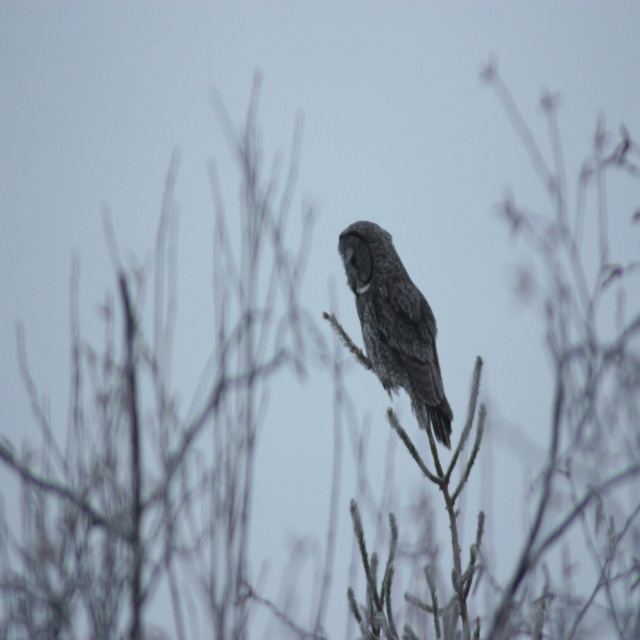Owl: (334, 220, 464, 451)
